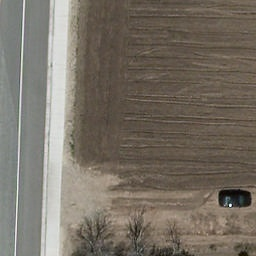car: (217, 193, 252, 206)
